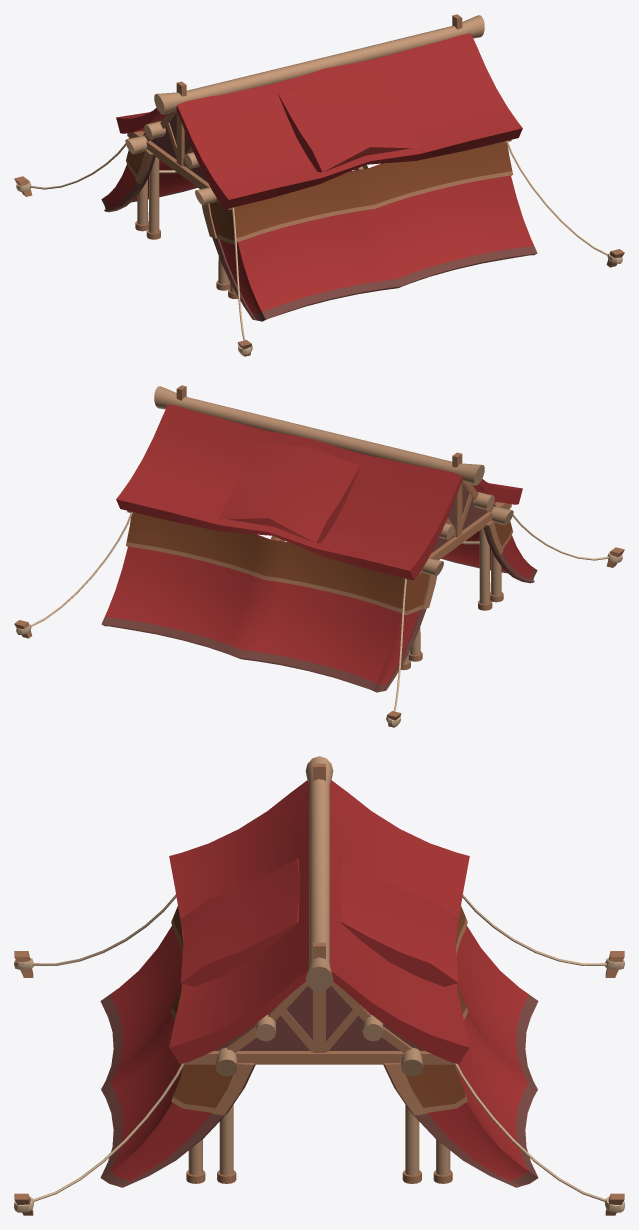
The model's file is Tent.fbx.
3 renders of one model, top to bottom at view 1: azimuth 30°, elevation 25°; view 2: azimuth 150°, elevation 25°; view 3: azimuth 270°, elevation 25°, orthographic. The views are drawn at different scales.
Visible parts, largest first — view 1: Cube.007; view 2: Cube.007; view 3: Cube.007.
Boxes of the visible parts, x1,y1,x2,y2 form: Cube.007: [14, 14, 624, 356]; Cube.007: [14, 385, 624, 727]; Cube.007: [14, 756, 624, 1215].
Bounding box in the file's own units: 835 × 380 × 868.
